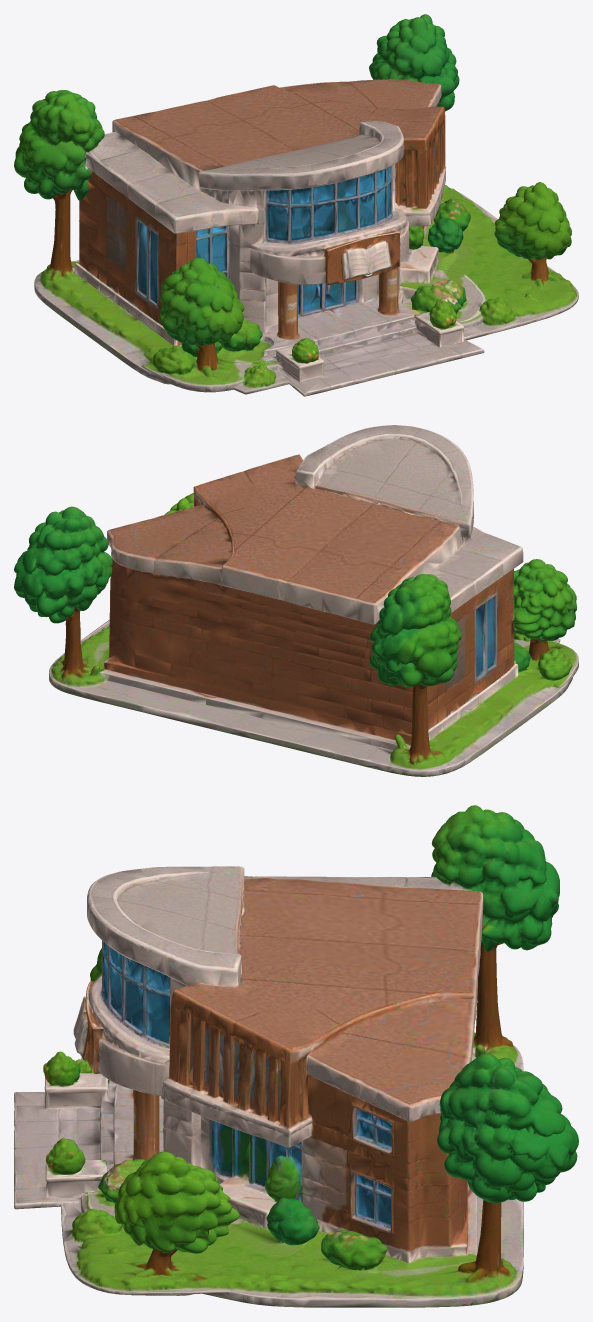
The model's file is library.glb.
3 renders of one model, top to bottom at view 1: azimuth 30°, elevation 25°; view 2: azimuth 150°, elevation 25°; view 3: azimuth 270°, elevation 25°, orthographic. The views are drawn at different scales.
Size of the model in its own units: 1.9 by 0.8258 by 1.62.
Materials: 1 (1 with a texture image).
